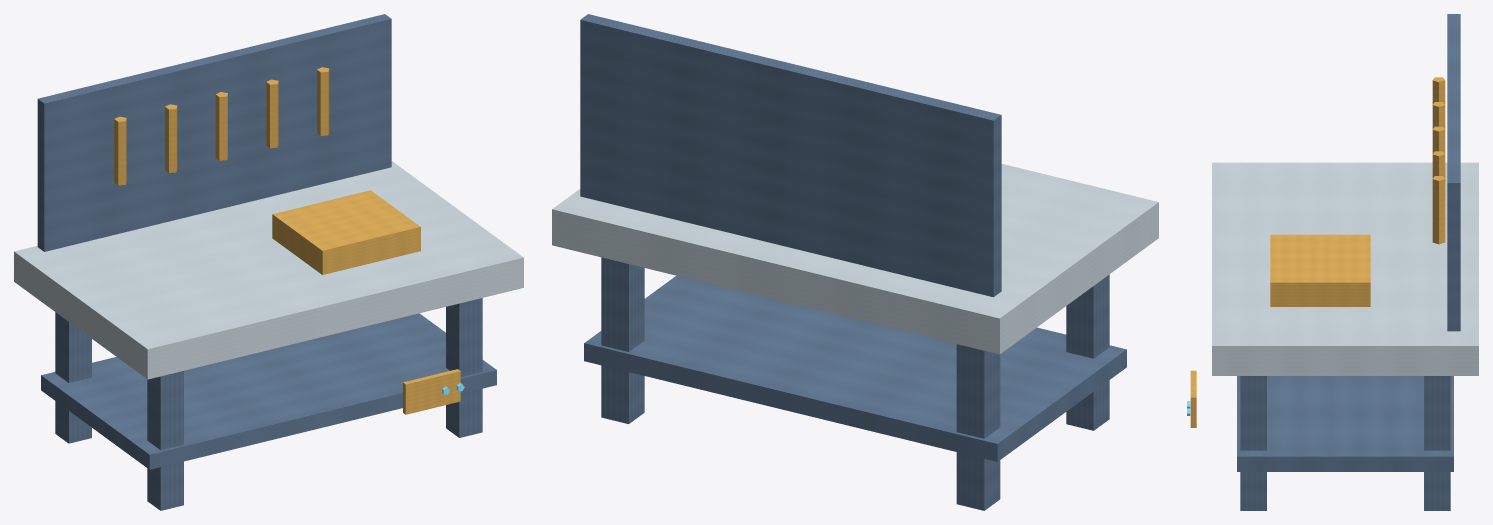
File: atlas100-s058-a06.lod1.glb
The picture shows the model from 3 angles, left to right: view 1: azimuth 30°, elevation 25°; view 2: azimuth 150°, elevation 25°; view 3: azimuth 270°, elevation 25°; orthographic projection. The views are drawn at different scales.
Parts seen in each view (by area): view 1: atlas100-s058-a06:part-004, atlas100-s058-a06:part-006, atlas100-s058-a06:part-005, atlas100-s058-a06:part-012, atlas100-s058-a06:part-001, atlas100-s058-a06:part-003, atlas100-s058-a06:part-000, atlas100-s058-a06:part-013, atlas100-s058-a06:part-007, atlas100-s058-a06:part-010, atlas100-s058-a06:part-011, atlas100-s058-a06:part-009 (+1 smaller); view 2: atlas100-s058-a06:part-006, atlas100-s058-a06:part-005, atlas100-s058-a06:part-004, atlas100-s058-a06:part-000, atlas100-s058-a06:part-002, atlas100-s058-a06:part-001; view 3: atlas100-s058-a06:part-004, atlas100-s058-a06:part-005, atlas100-s058-a06:part-012, atlas100-s058-a06:part-006, atlas100-s058-a06:part-002, atlas100-s058-a06:part-003, atlas100-s058-a06:part-011, atlas100-s058-a06:part-013, atlas100-s058-a06:part-009, atlas100-s058-a06:part-008, atlas100-s058-a06:part-007, atlas100-s058-a06:part-010.
Boxes of the visible parts, left/top/right/bottom form: atlas100-s058-a06:part-004: left=14, top=161, right=523, bottom=379; atlas100-s058-a06:part-006: left=37, top=14, right=391, bottom=251; atlas100-s058-a06:part-005: left=41, top=313, right=496, bottom=469; atlas100-s058-a06:part-012: left=272, top=190, right=420, bottom=274; atlas100-s058-a06:part-001: left=147, top=371, right=183, bottom=510; atlas100-s058-a06:part-003: left=446, top=298, right=482, bottom=437; atlas100-s058-a06:part-000: left=55, top=312, right=91, bottom=443; atlas100-s058-a06:part-013: left=403, top=369, right=460, bottom=414; atlas100-s058-a06:part-007: left=114, top=116, right=126, bottom=185; atlas100-s058-a06:part-010: left=266, top=79, right=278, bottom=148; atlas100-s058-a06:part-011: left=317, top=67, right=329, bottom=135; atlas100-s058-a06:part-009: left=215, top=92, right=227, bottom=160; atlas100-s058-a06:part-006: left=580, top=14, right=1001, bottom=297; atlas100-s058-a06:part-005: left=584, top=275, right=1126, bottom=461; atlas100-s058-a06:part-004: left=552, top=164, right=1158, bottom=354; atlas100-s058-a06:part-000: left=956, top=344, right=1000, bottom=510; atlas100-s058-a06:part-002: left=601, top=257, right=644, bottom=423; atlas100-s058-a06:part-001: left=1066, top=274, right=1109, bottom=430; atlas100-s058-a06:part-004: left=1212, top=162, right=1478, bottom=375; atlas100-s058-a06:part-005: left=1237, top=376, right=1453, bottom=471; atlas100-s058-a06:part-012: left=1270, top=234, right=1370, bottom=306; atlas100-s058-a06:part-006: left=1447, top=14, right=1460, bottom=331; atlas100-s058-a06:part-002: left=1424, top=376, right=1450, bottom=510; atlas100-s058-a06:part-003: left=1240, top=376, right=1266, bottom=510; atlas100-s058-a06:part-011: left=1432, top=176, right=1445, bottom=244; atlas100-s058-a06:part-013: left=1190, top=370, right=1196, bottom=427; atlas100-s058-a06:part-009: left=1432, top=126, right=1445, bottom=153; atlas100-s058-a06:part-008: left=1432, top=102, right=1445, bottom=129; atlas100-s058-a06:part-007: left=1432, top=77, right=1445, bottom=104; atlas100-s058-a06:part-010: left=1432, top=151, right=1445, bottom=178.
Bounding box in the file's own units: 2.6 × 2.21 × 1.75.
Materials: 4 (4 with a texture image).
